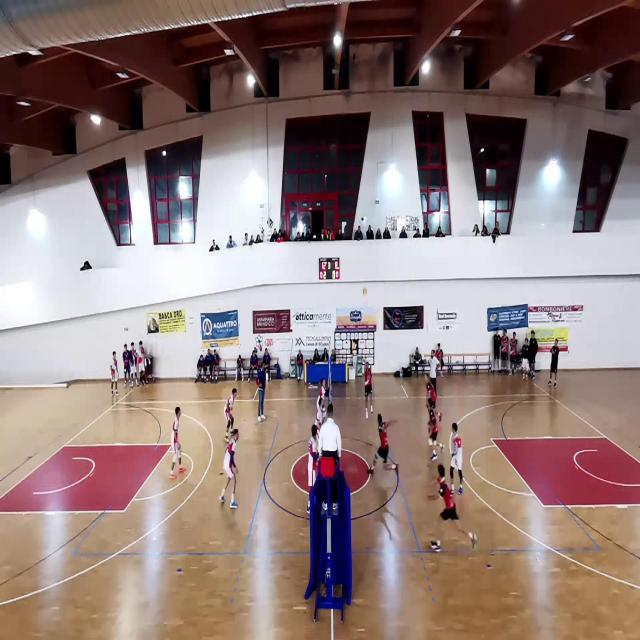volleyball: (362, 288, 368, 296)
